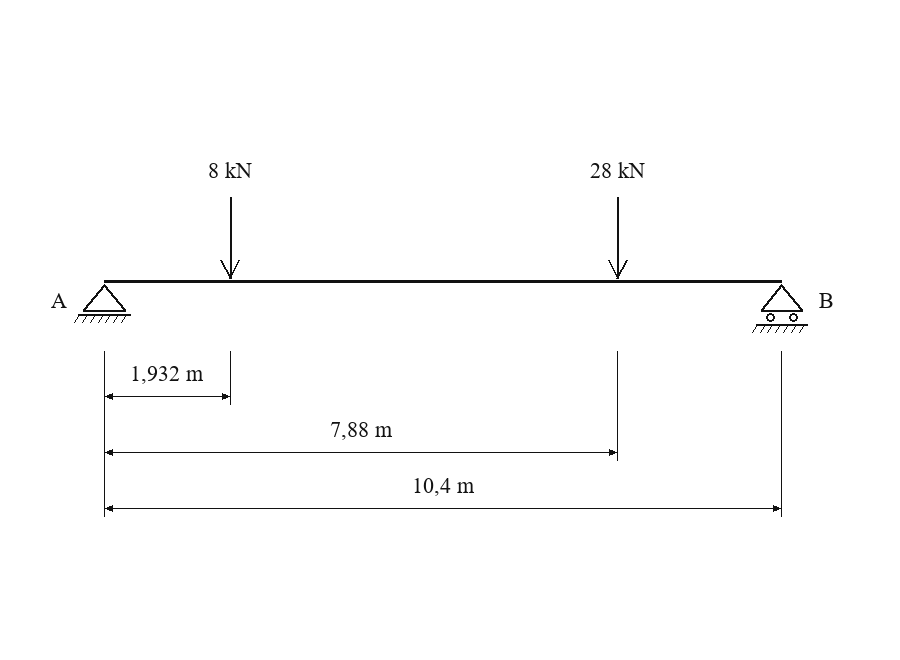pin_support: (74, 284, 131, 323)
point_load: (220, 197, 240, 279), (608, 197, 628, 279)
roller_support: (752, 284, 808, 333)
